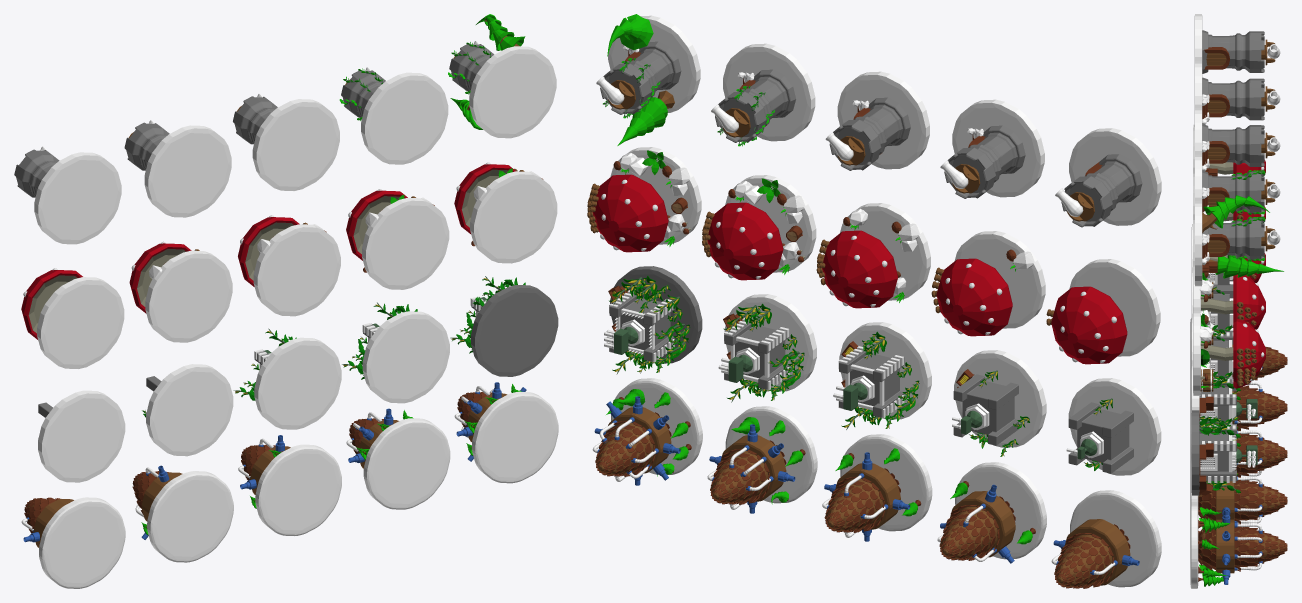
File: TowerDefenceTurrets.fbx
The picture shows the model from 3 angles, left to right: view 1: azimuth 30°, elevation 25°; view 2: azimuth 150°, elevation 25°; view 3: azimuth 270°, elevation 25°; orthographic projection. The views are drawn at different scales.
Visible parts, largest first — view 1: Turret_1_Level_5_Base, Turret_1_Level_4_Base, Turret_1_Level_2_Base, Turret_1_Level_1_Base, Turret_1_Level_3_Base, Turret_3_Level_5_Base, Turret_3_Level_4_Base, Turret_3_Level_3_Base, Turret_2_Level_5_Base, Turret_2_Level_4_Base, Turret_3_Level_2_Base, Turret_3_Level_1_Base (+18 smaller); view 2: Turret_1_Level_5_Base, Turret_3_Level_5_Base, Turret_3_Level_4_Base, Turret_3_Level_3_Base, Turret_1_Level_4_Base, Turret_1_Level_1_Base, Turret_1_Level_3_Base, Turret_1_Level_2_Base, Turret_3_Level_1_Base, Turret_3_Level_2_Base, Turret_2_Level_5_Weapon, Turret_2_Level_4_Weapon (+23 smaller); view 3: Turret_1_Level_5_Base, Turret_4_Level_5_Weapon, Turret_3_Level_5_Base, Turret_1_Level_3_Base, Turret_4_Level_4_Weapon, Turret_1_Level_2_Base, Turret_1_Level_1_Base, Turret_1_Level_4_Base, Turret_2_Level_5_Base, Turret_2_Level_5_Weapon, Turret_3_Level_4_Base, Turret_4_Level_5_Base (+22 smaller).
Boxes of the visible parts, x1,y1,x2,y2 form: Turret_1_Level_5_Base: (448, 14, 556, 138); Turret_1_Level_4_Base: (339, 68, 448, 164); Turret_1_Level_2_Base: (124, 122, 231, 217); Turret_1_Level_1_Base: (14, 149, 121, 244); Turret_1_Level_3_Base: (233, 96, 339, 190); Turret_3_Level_5_Base: (450, 276, 558, 376); Turret_3_Level_4_Base: (342, 302, 449, 403); Turret_3_Level_3_Base: (233, 328, 341, 429); Turret_2_Level_5_Base: (470, 168, 557, 263); Turret_2_Level_4_Base: (362, 195, 449, 289); Turret_3_Level_2_Base: (142, 364, 233, 456); Turret_3_Level_1_Base: (38, 390, 125, 482); Turret_1_Level_5_Base: (600, 14, 700, 145); Turret_3_Level_5_Base: (608, 266, 702, 374); Turret_3_Level_4_Base: (723, 294, 816, 402); Turret_3_Level_3_Base: (838, 322, 931, 429); Turret_1_Level_4_Base: (715, 43, 815, 146); Turret_1_Level_1_Base: (1061, 128, 1161, 227); Turret_1_Level_3_Base: (829, 71, 929, 170); Turret_1_Level_2_Base: (944, 99, 1044, 198); Turret_3_Level_1_Base: (1068, 378, 1161, 475); Turret_3_Level_2_Base: (953, 350, 1046, 456); Turret_2_Level_5_Weapon: (587, 174, 668, 252); Turret_2_Level_4_Weapon: (702, 202, 783, 280); Turret_1_Level_5_Base: (1194, 195, 1283, 286); Turret_4_Level_5_Weapon: (1198, 508, 1287, 584); Turret_3_Level_5_Base: (1191, 410, 1240, 495); Turret_1_Level_3_Base: (1194, 108, 1264, 176); Turret_4_Level_4_Weapon: (1198, 476, 1287, 523); Turret_1_Level_2_Base: (1194, 61, 1264, 124); Turret_1_Level_1_Base: (1194, 14, 1264, 73); Turret_1_Level_4_Base: (1194, 154, 1265, 215); Turret_2_Level_5_Base: (1193, 309, 1233, 395); Turret_2_Level_5_Weapon: (1233, 318, 1265, 388); Turret_3_Level_4_Base: (1191, 364, 1240, 447); Turret_4_Level_5_Base: (1190, 504, 1230, 588).
Bounding box in the file's own units: 2394 × 1956 × 441.
